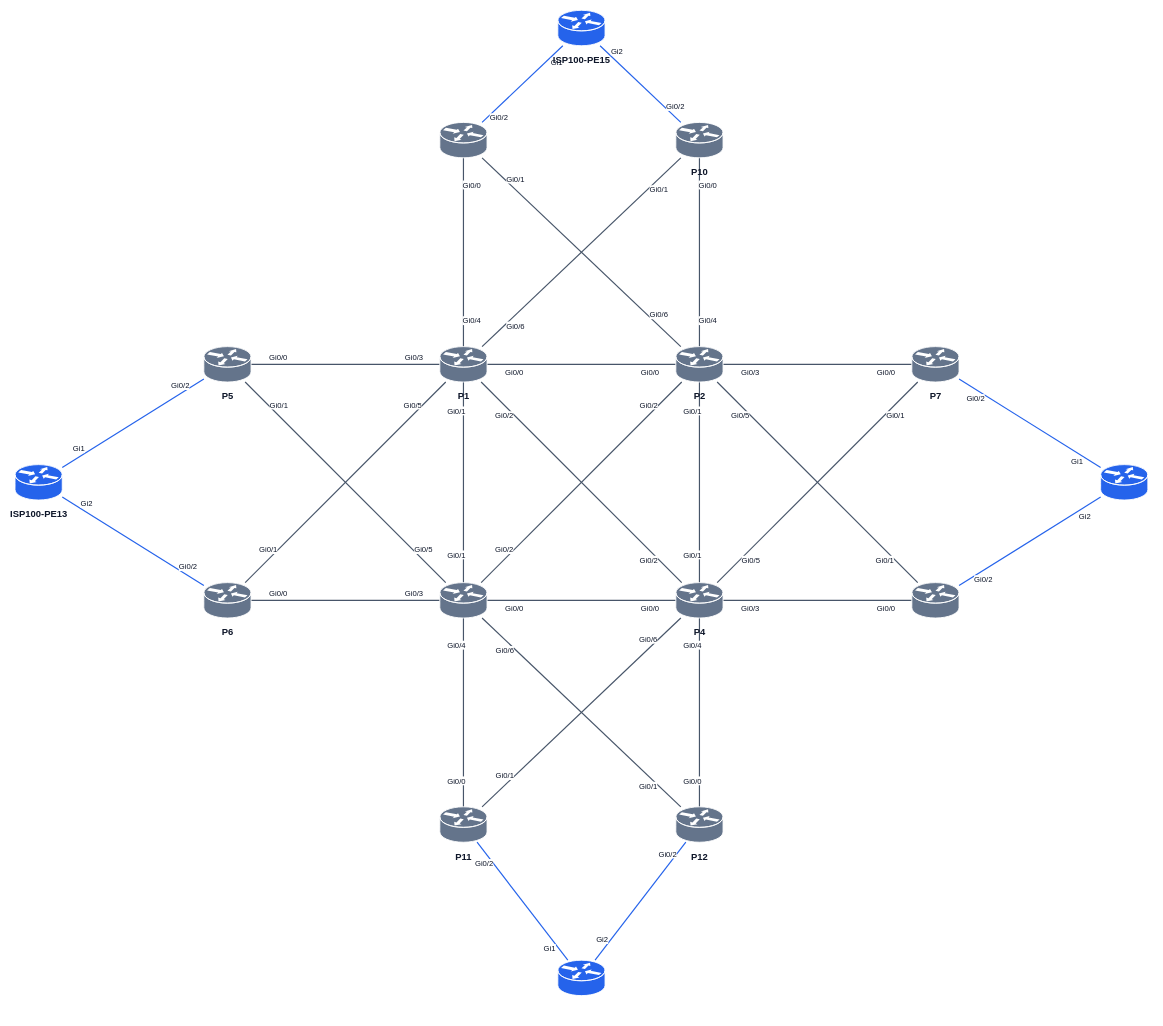
Image size: 1163x1026. Some labels were removed from this diagram. Here are the shapes that lost their labels. From the top down, the centre of each, then its label:
At [463,140]: "P9".
At [1124,482]: "ISP100-PE14".
At [463,600]: "P3".
At [935,600]: "P8".
At [581,978]: "ISP100-PE16".
